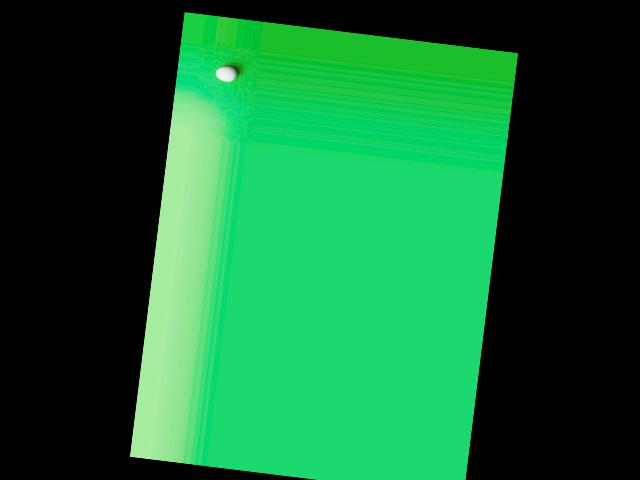egg: (215, 65, 237, 82)
